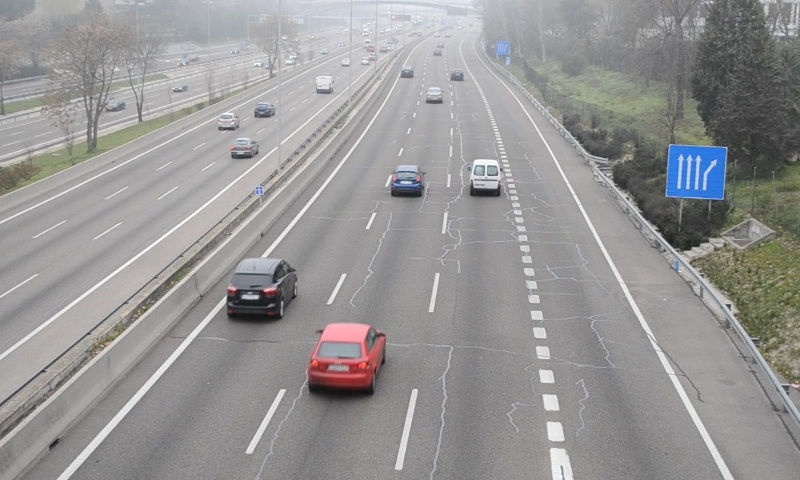car: (308, 323, 384, 390), (225, 258, 295, 320), (392, 164, 422, 195), (426, 86, 443, 103), (450, 67, 464, 80)
van: (470, 158, 501, 192)
